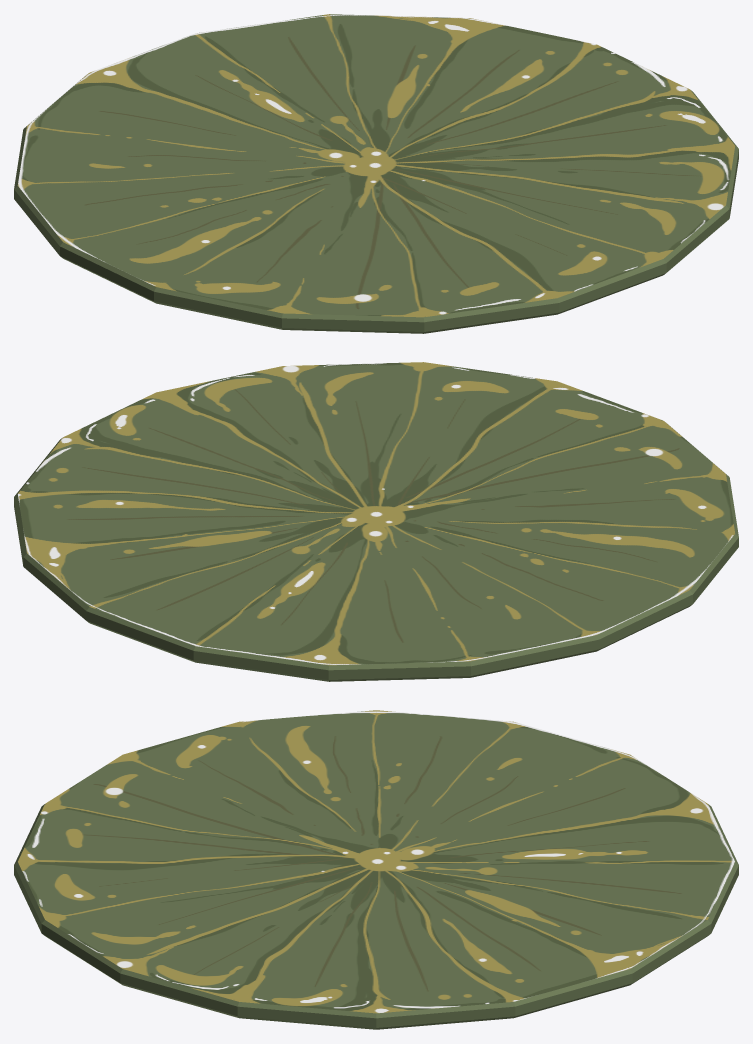
The model's file is GreenLilyPads-mockup004.fbx.
3 renders of one model, top to bottom at view 1: azimuth 30°, elevation 25°; view 2: azimuth 150°, elevation 25°; view 3: azimuth 270°, elevation 25°, orthographic.
Parts seen in each view (by area): view 1: Cylinder.003; view 2: Cylinder.003; view 3: Cylinder.003.
Boxes of the visible parts, <box> form: Cylinder.003: <box>14,14,738,333</box>; Cylinder.003: <box>14,362,738,681</box>; Cylinder.003: <box>14,710,738,1029</box>.
Size of the model in its own units: 4000 by 99.46 by 4000.
